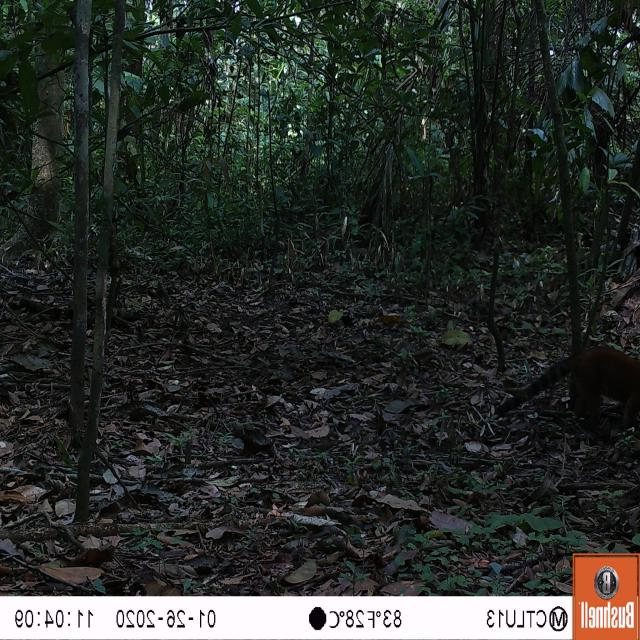South American Coati: (482, 335, 640, 439)
